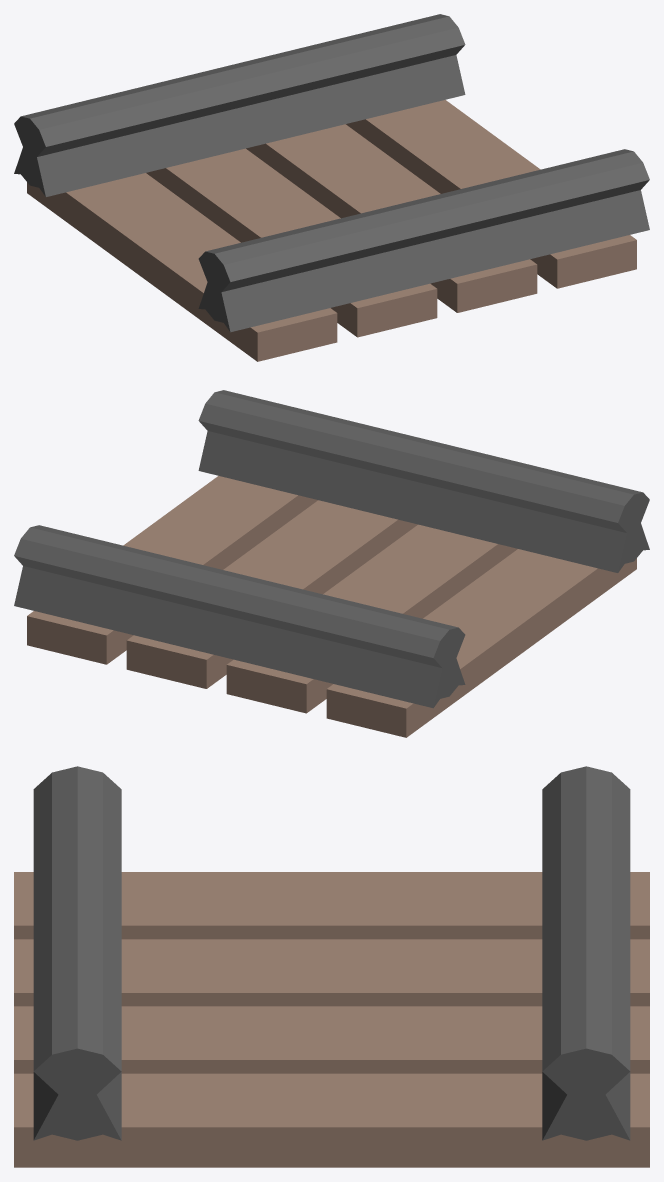
The model's file is MINERAIL.fbx.
3 renders of one model, top to bottom at view 1: azimuth 30°, elevation 25°; view 2: azimuth 150°, elevation 25°; view 3: azimuth 270°, elevation 25°, orthographic. The views are drawn at different scales.
Parts seen in each view (by area): view 1: Cylinder.002, Cylinder, Cube.001, Cube.002, Cube.003, Cube; view 2: Cylinder, Cylinder.002, Cube.001, Cube.002, Cube.003, Cube; view 3: Cube, Cylinder, Cylinder.002, Cube.003, Cube.001, Cube.002.
Boxes of the visible parts, bbox=[...] form: Cylinder.002: bbox=[198, 149, 649, 332]; Cylinder: bbox=[14, 14, 465, 196]; Cube.001: bbox=[27, 173, 337, 361]; Cube.002: bbox=[146, 148, 437, 337]; Cube.003: bbox=[246, 124, 537, 312]; Cube: bbox=[346, 100, 636, 288]; Cylinder: bbox=[14, 525, 465, 708]; Cylinder.002: bbox=[198, 390, 649, 572]; Cube.001: bbox=[326, 549, 636, 737]; Cube.002: bbox=[226, 524, 517, 713]; Cube.003: bbox=[126, 500, 417, 688]; Cube: bbox=[27, 476, 317, 664]; Cube: bbox=[14, 1073, 649, 1167]; Cylinder: bbox=[542, 766, 630, 1140]; Cylinder.002: bbox=[33, 766, 121, 1140]; Cube.003: bbox=[14, 1006, 649, 1073]; Cube.001: bbox=[14, 872, 649, 939]; Cube.002: bbox=[14, 939, 649, 1006].
Size of the model in its own units: 105 by 23 by 100.
